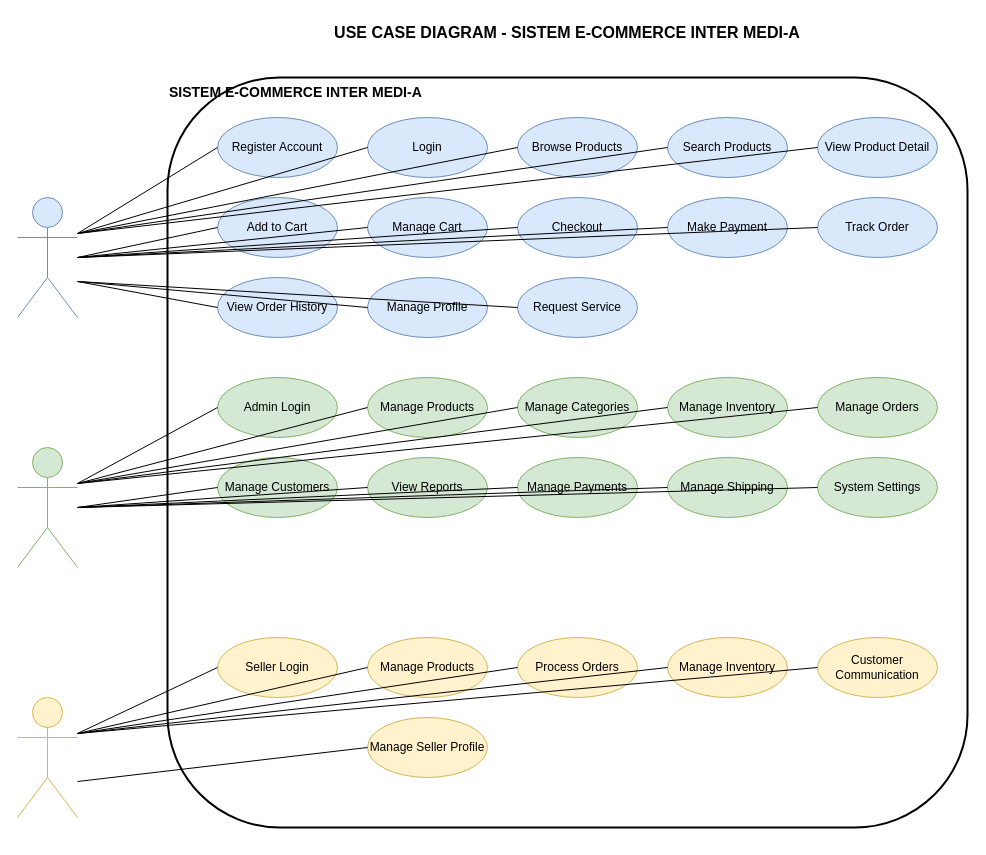
The diagram is 986 pixels wide and 855 high, and some of its shapes have lost their labels. The shapes that lost their labels are listed below. From the top down, each one's box as (x1, y1, x2, y2) in pixels, then its label:
(16, 196, 78, 318): Customer
(16, 446, 78, 568): Admin
(16, 696, 78, 818): Seller
